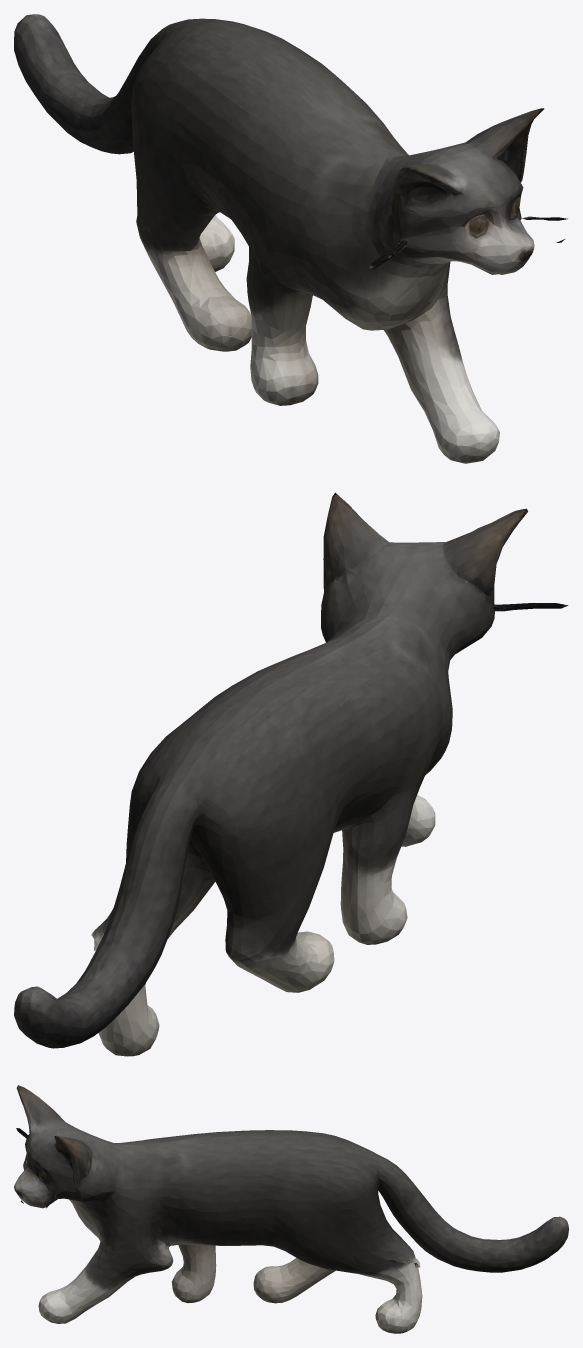
The picture shows the model from 3 angles, top to bottom: view 1: azimuth 30°, elevation 25°; view 2: azimuth 150°, elevation 25°; view 3: azimuth 270°, elevation 25°; orthographic projection. The views are drawn at different scales.
Visible parts, largest first — view 1: geometry_0; view 2: geometry_0; view 3: geometry_0.
Boxes of the visible parts, x1=… form: geometry_0: x1=14, y1=14, x2=567, y2=463; geometry_0: x1=14, y1=492, x2=568, y2=1056; geometry_0: x1=14, y1=1085, x2=568, y2=1333.
Size of the model in its own units: 0.2873 by 0.43 by 0.9998.
Materials: 1 (1 with a texture image).
